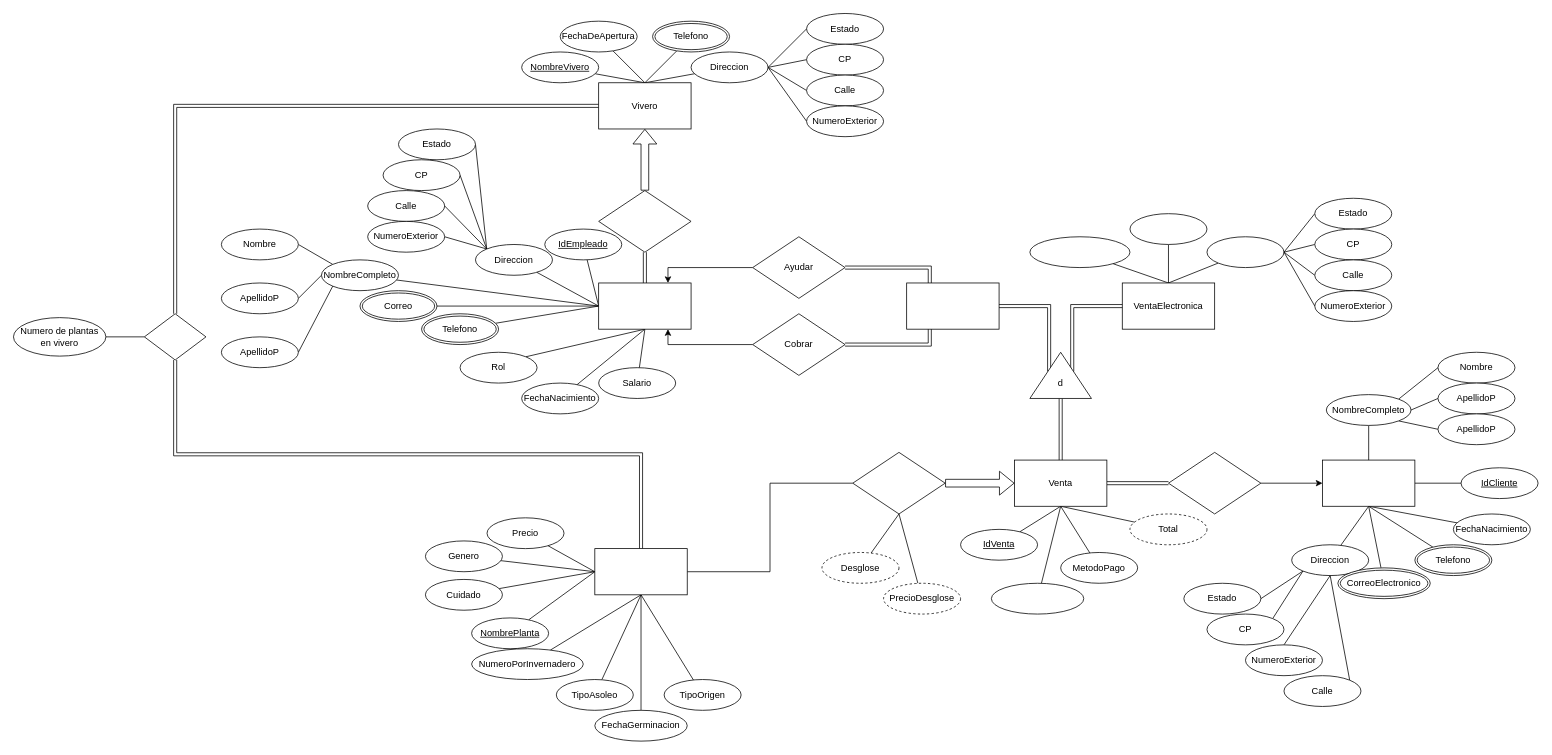
This 1552x755 diagram has some shape labels left out. Each missing label, with the centre of its shape:
"Cliente" belongs at pixel 1368 482.
"DireccionEnvio" belongs at pixel 1245 252.
"Empleado" belongs at pixel 644 305.
"en" belongs at pixel 175 336.
"Entregar" belongs at pixel 898 483.
"FechaPedido" belongs at pixel 1168 228.
"NumeroProductos" belongs at pixel 1037 598.
"NumeroSeguimiento" belongs at pixel 1079 252.
"Pagar" belongs at pixel 1214 483.
"Planta" belongs at pixel 640 571.
"Trabajar" belongs at pixel 644 221.
"VentaFisica" belongs at pixel 952 305.
